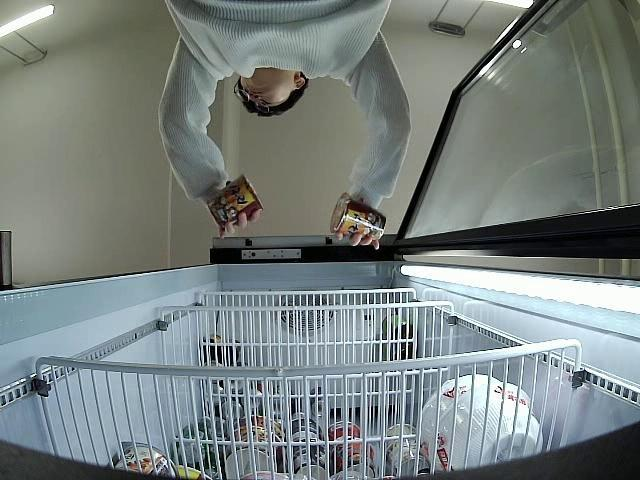06_nuguri_S: (331, 194, 388, 246), (207, 174, 261, 227)
